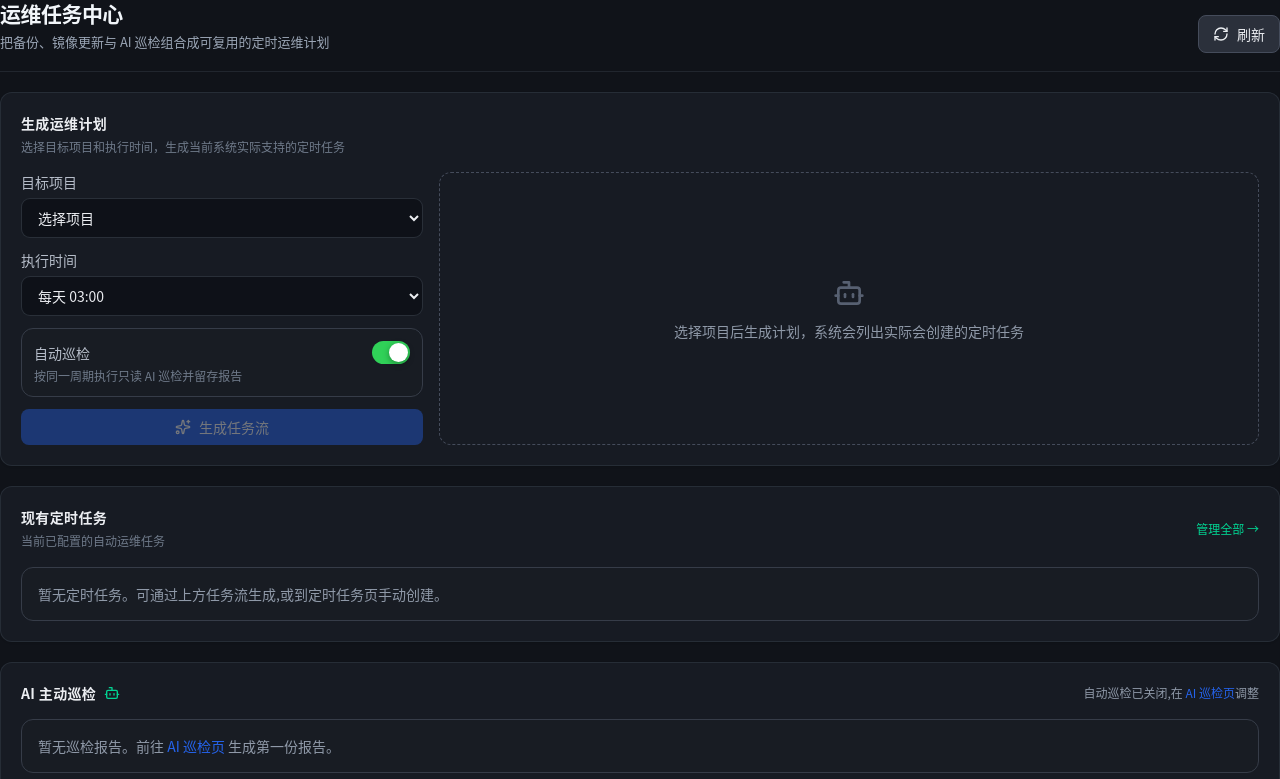
Test: 运维任务中心的加载失败与部分创建反馈 › 计划只创建出部分定时任务时刷新列表、明确告知勿整组重试
Select "测试项目" in the dropdown named "目标项目" at (222,218), box [21,198,423,238]
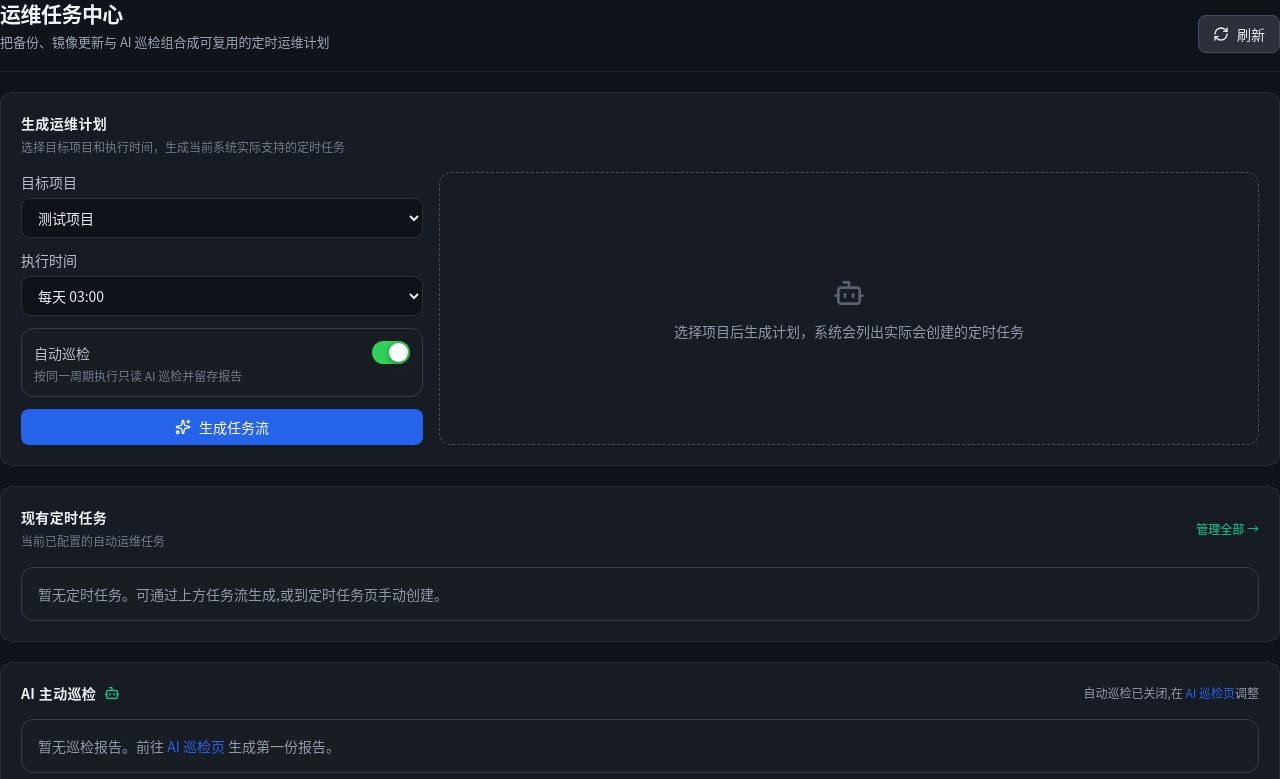
Click the button "生成任务流" at (222,427), box [21,409,423,445]
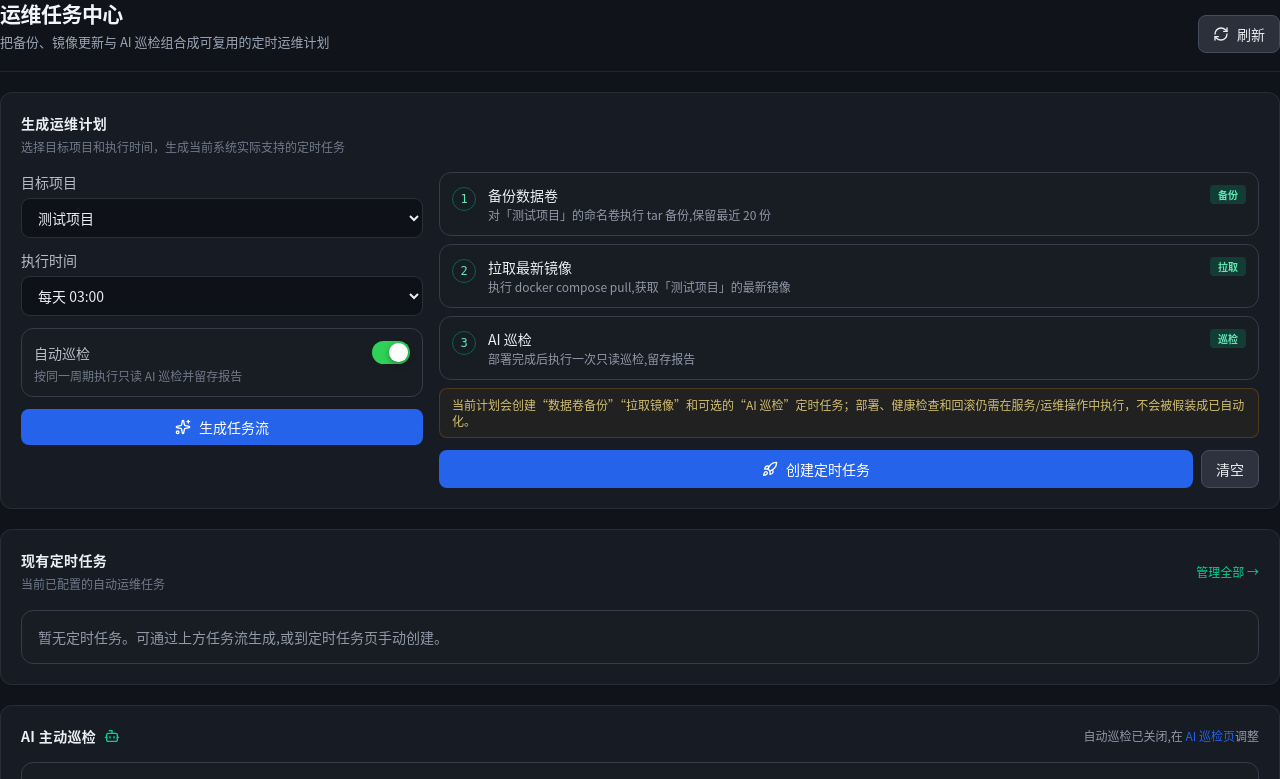
Click the button "创建定时任务" at (816,469), box [439,450,1193,488]
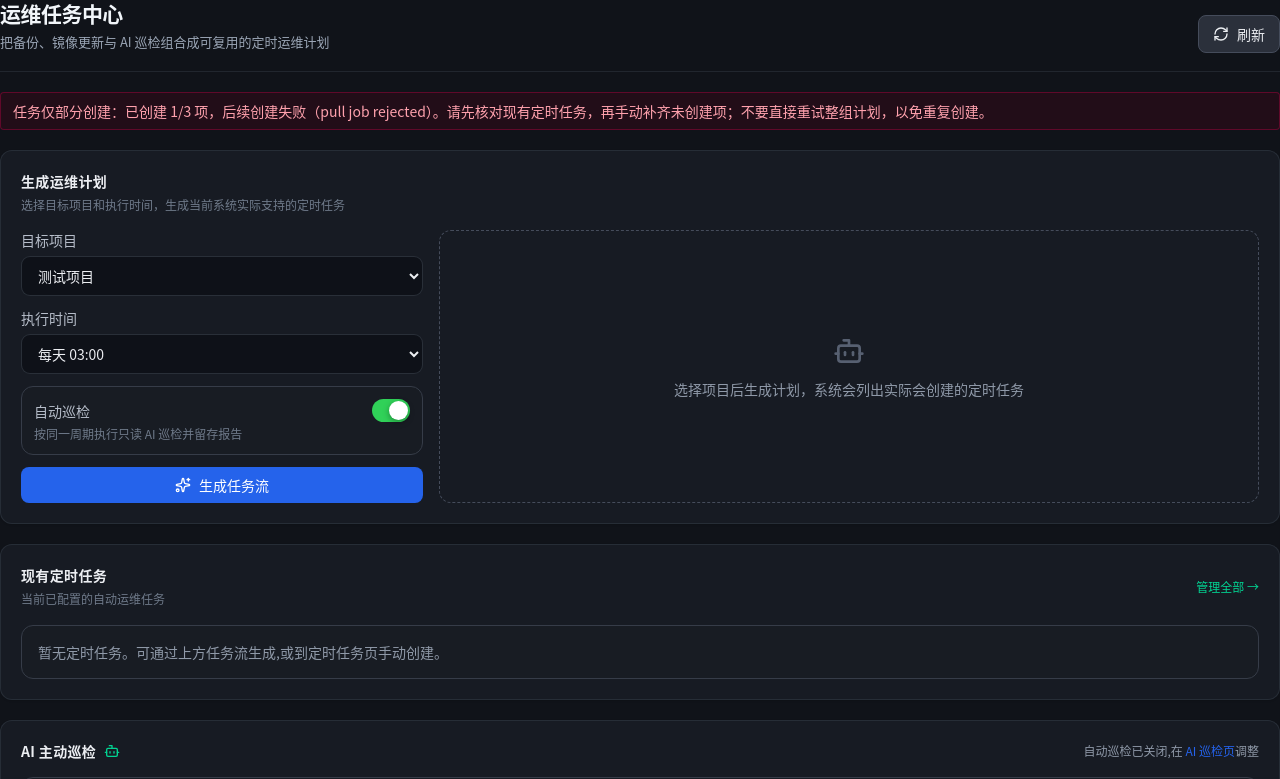
Expected: the message shows "任务仅部分创建", [13,101,993,121]
Expected: the message shows "已创建 1/3 项", [13,101,993,121]
Expected: the message shows "不要直接重试", [13,101,993,121]
